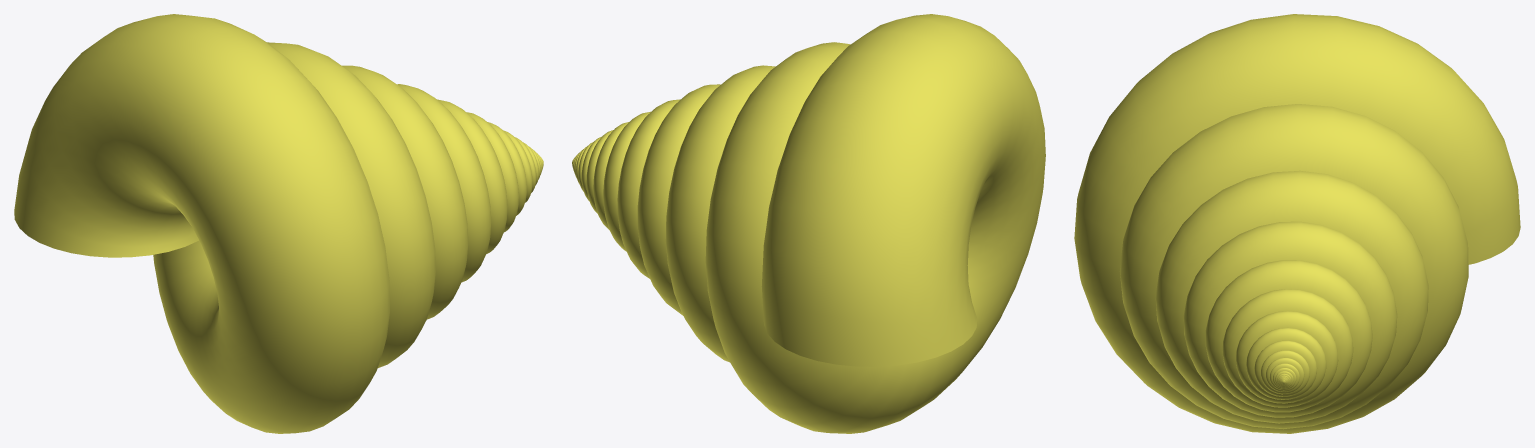
The picture shows the model from 3 angles, left to right: view 1: azimuth 30°, elevation 25°; view 2: azimuth 150°, elevation 25°; view 3: azimuth 270°, elevation 25°; orthographic projection. The views are drawn at different scales.
Parts seen in each view (by area): view 1: t31; view 2: t31; view 3: t31.
Boxes of the visible parts, x1=… form: t31: x1=14, y1=14, x2=543, y2=433; t31: x1=572, y1=14, x2=1045, y2=433; t31: x1=1074, y1=14, x2=1520, y2=433.
Size of the model in its own units: 500 by 417 by 443.
